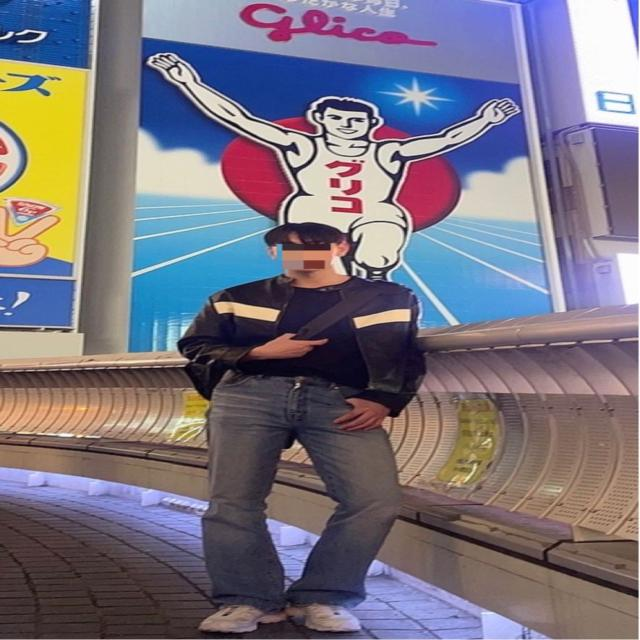denimpants: (200, 373, 410, 604)
jacket: (178, 270, 429, 412)
